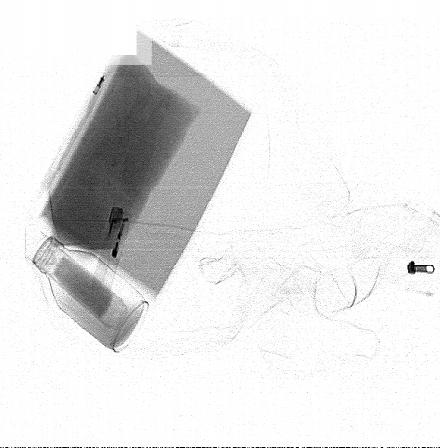Lighter: (92, 207, 130, 295)
